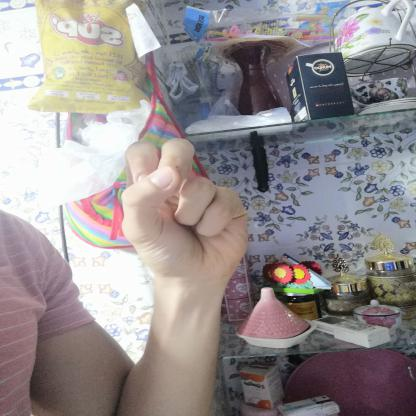QAAF: (101, 128, 268, 294)
